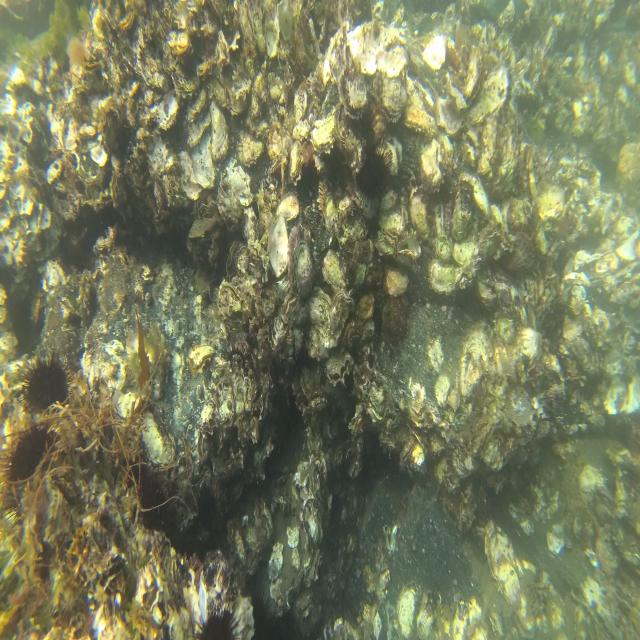echinus: (17, 352, 77, 409), (4, 423, 56, 482), (356, 145, 394, 205), (197, 600, 237, 640), (249, 588, 273, 637)
